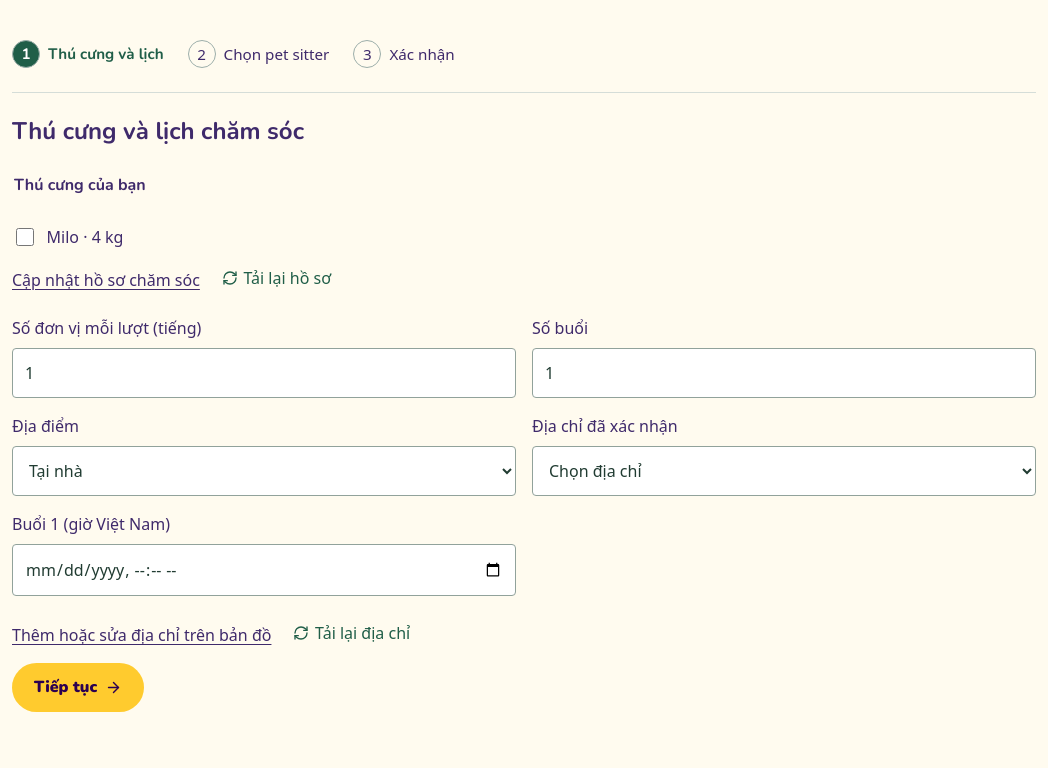
empty eligibility cannot be selected as a directed booking
Click the checkbox labelled "Milo · 4 kg": (25, 237) [16,228,34,246]
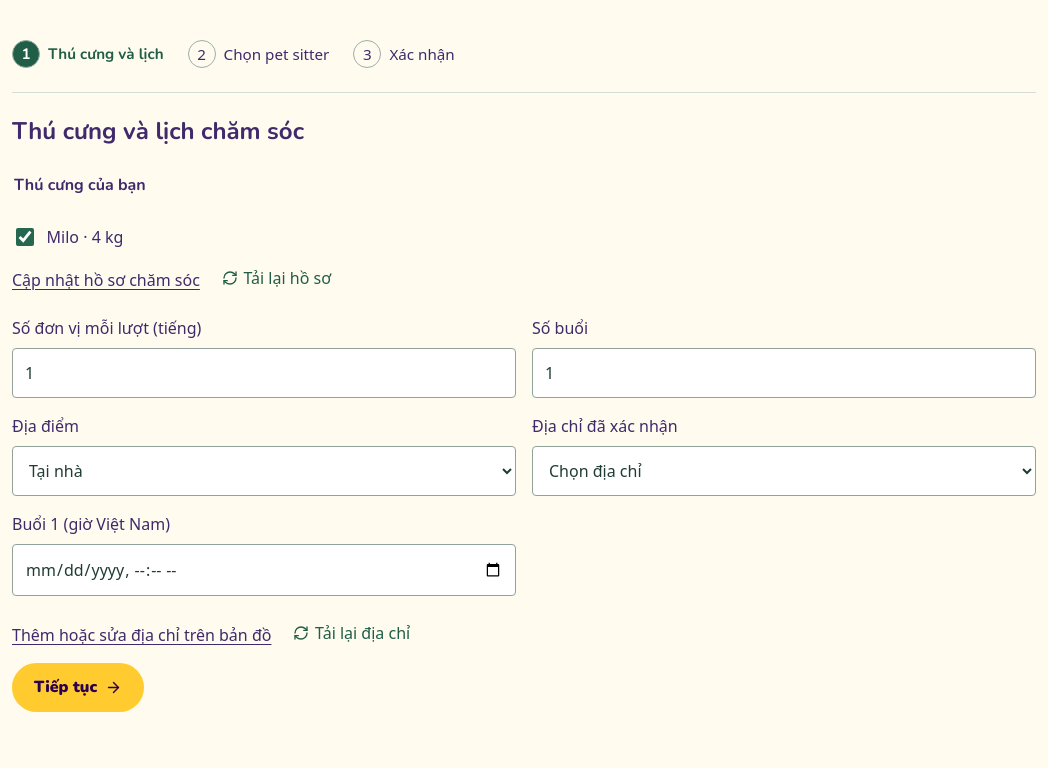
Select "Nhà đã xác nhận" in the dropdown labelled "Địa chỉ đã xác nhận": (784, 471) [532,446,1036,496]
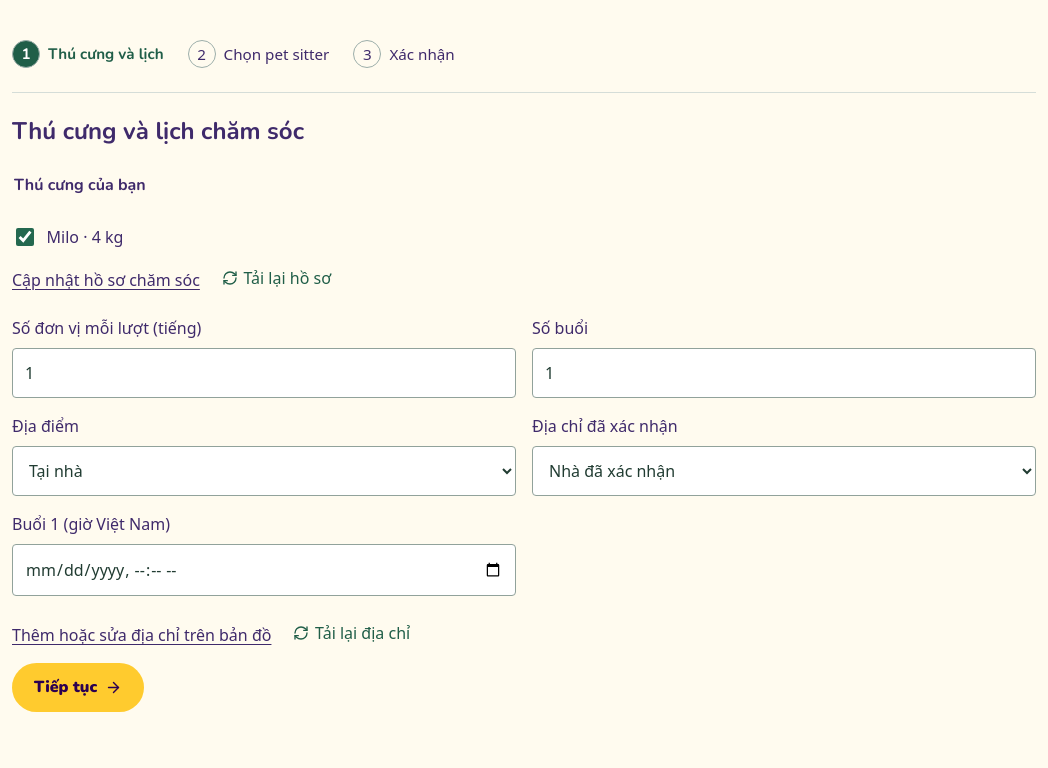
In the field labelled "Buổi 1 (giờ Việt Nam)": (264, 570) [12,544,516,596], type "2098-11-03T09:00"
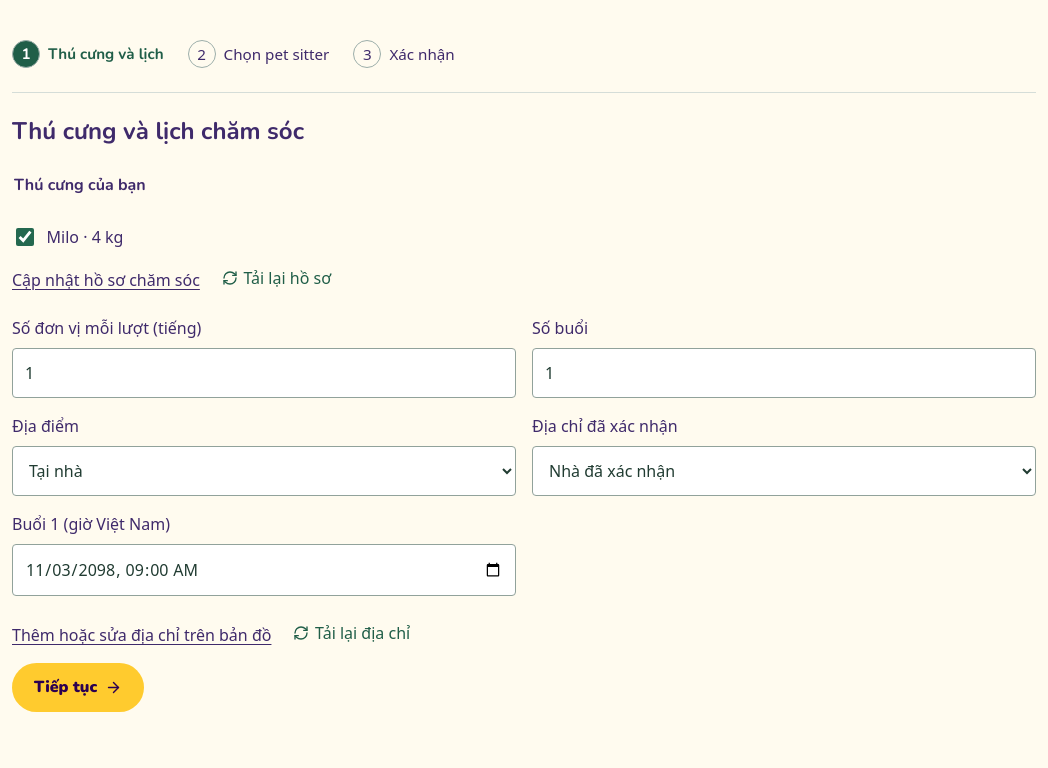
Submit the text "Tiếp tục"
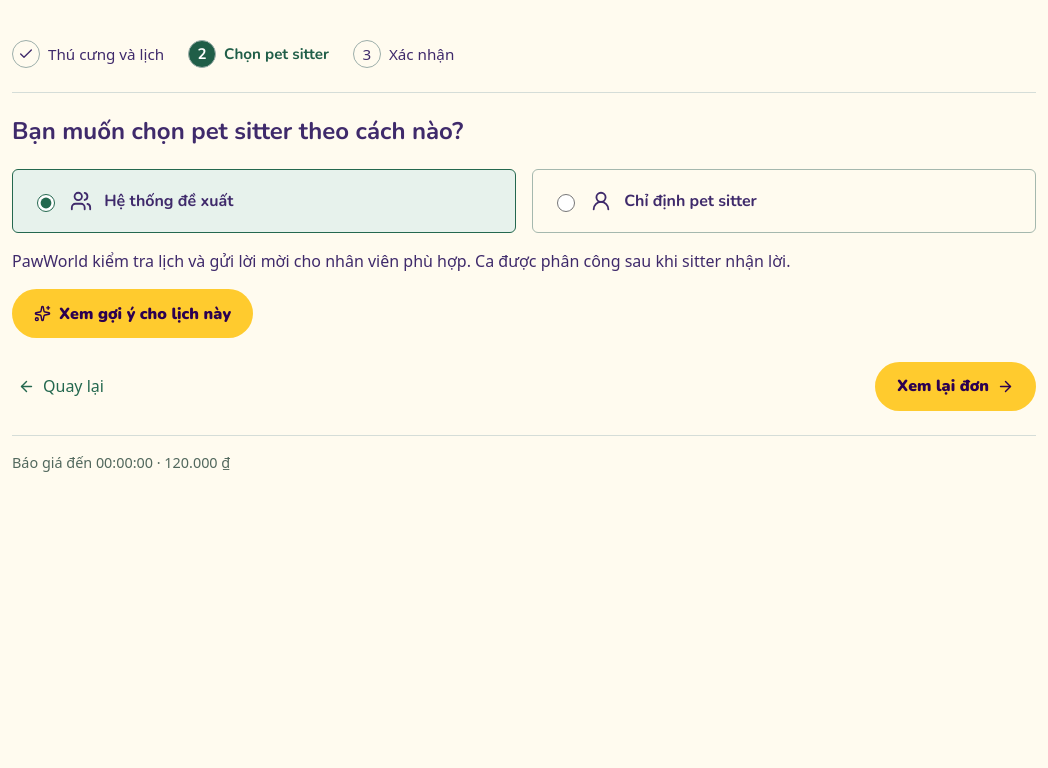
Now the heading "Bạn muốn chọn pet sitter theo cách nào?" is shown, box [12,115,463,147]
Click the radio button labelled "Chỉ định pet sitter": (566, 202) [557,194,575,212]
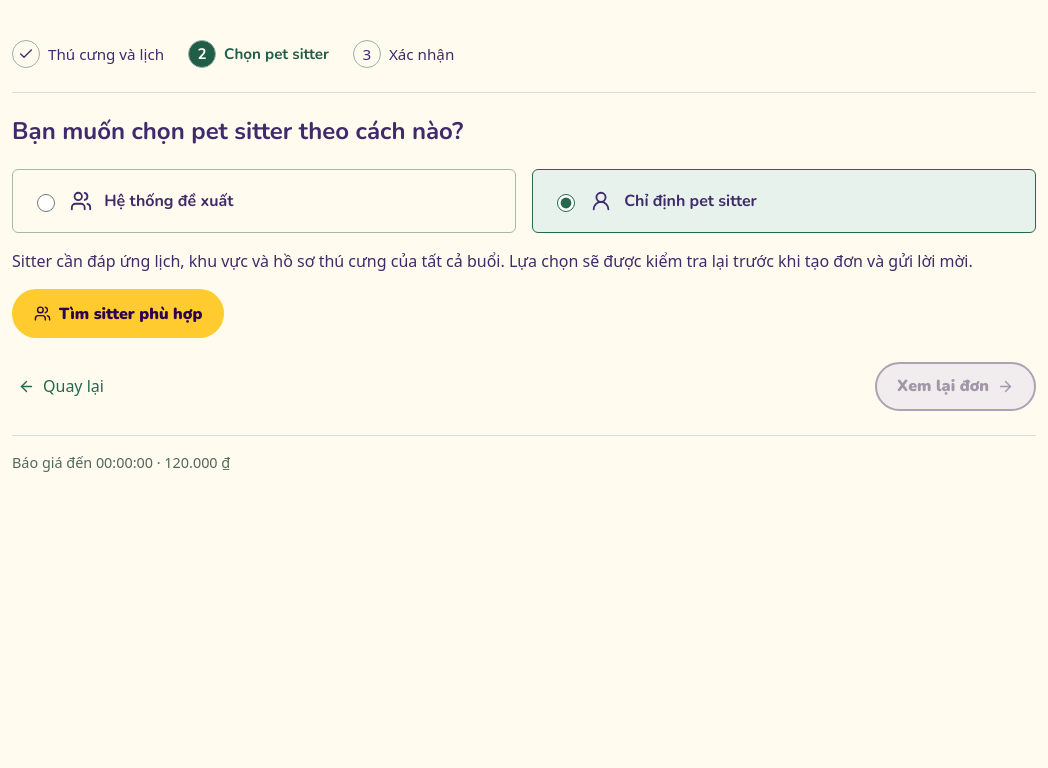
Click the button "Tìm sitter phù hợp": (118, 314) [12,289,224,338]
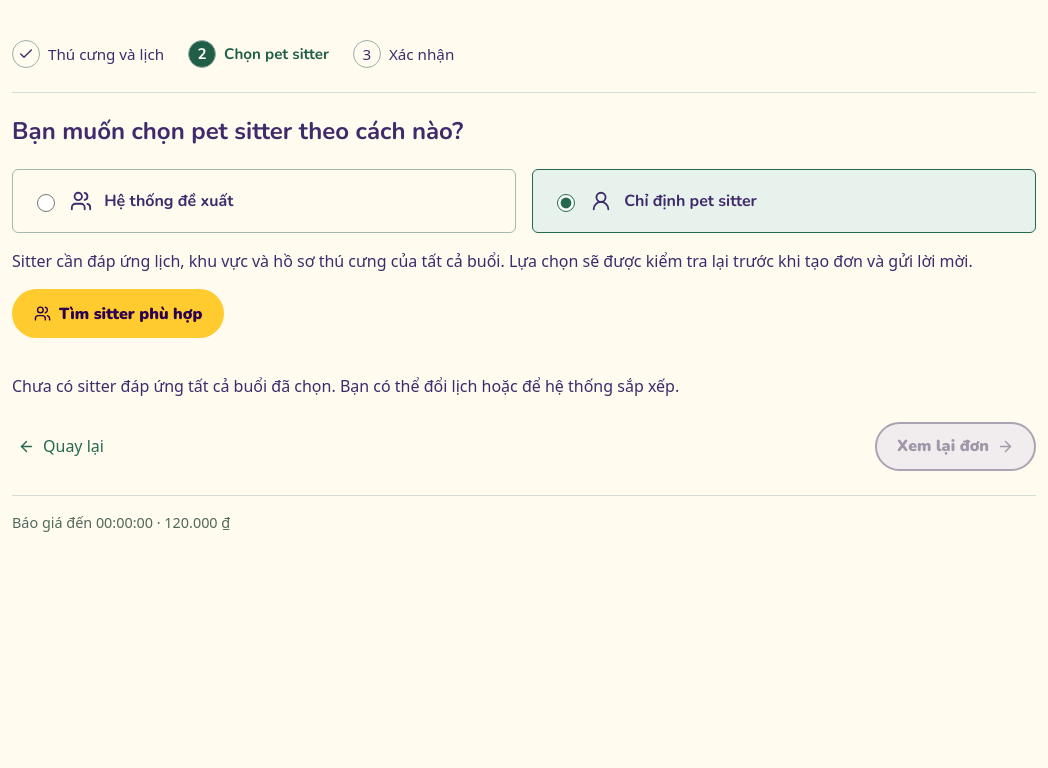
Now the button "Xem lại đơn" is disabled, box [875,422,1036,471]
Now the text "Chưa có sitter đáp ứng tất cả buổi" is shown, box [12,375,679,397]
